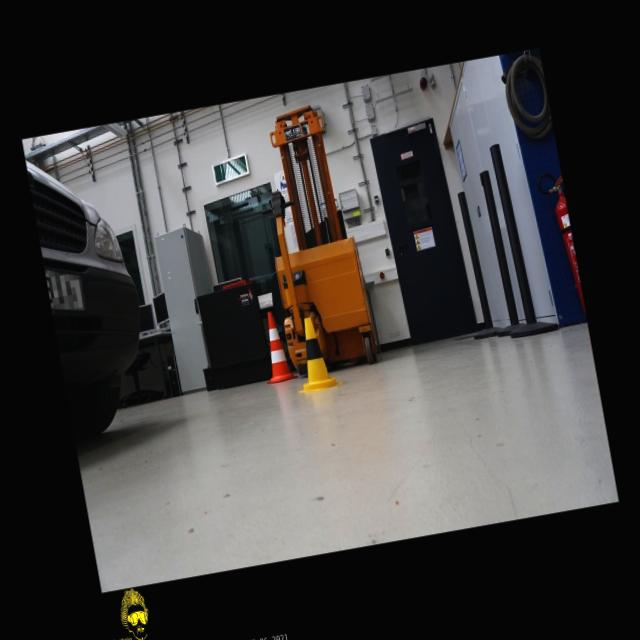large_orange_cone: (254, 308, 298, 384)
yellow_cone: (285, 313, 341, 393)
